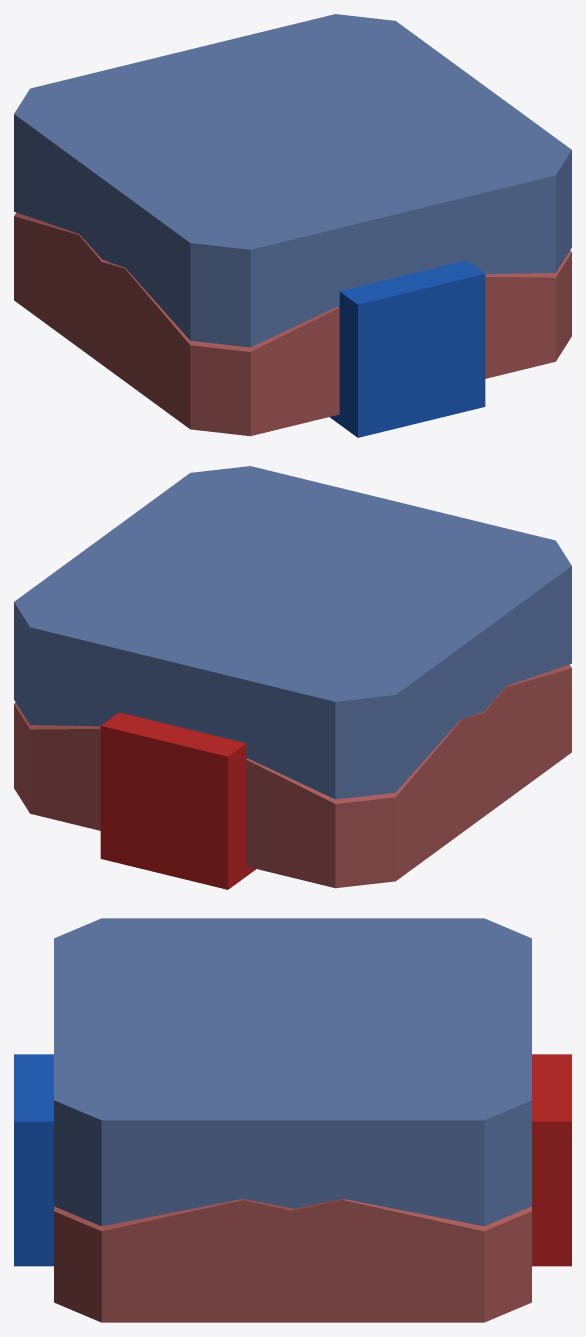
Rendered from Piston.obj.
The picture shows the model from 3 angles, top to bottom: view 1: azimuth 30°, elevation 25°; view 2: azimuth 150°, elevation 25°; view 3: azimuth 270°, elevation 25°; orthographic projection. The views are drawn at different scales.
Visible parts, largest first — view 1: Push, Handle, Forwards; view 2: Push, Handle, Backwards; view 3: Push, Handle, Forwards, Backwards.
Boxes of the visible parts, left/top/right/bottom form: Push: left=14, top=14, right=571, bottom=347; Handle: left=14, top=212, right=571, bottom=436; Forwards: left=330, top=260, right=485, bottom=437; Push: left=14, top=466, right=571, bottom=799; Handle: left=14, top=664, right=571, bottom=888; Backwards: left=100, top=712, right=255, bottom=889; Push: left=54, top=918, right=531, bottom=1226; Handle: left=54, top=1198, right=531, bottom=1322; Forwards: left=14, top=1054, right=53, bottom=1266; Backwards: left=532, top=1054, right=571, bottom=1266.
Bounding box in the file's own units: 0.6 × 0.295 × 0.7.
